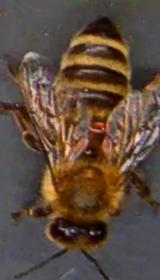varroa_mite: (85, 111, 114, 141)
